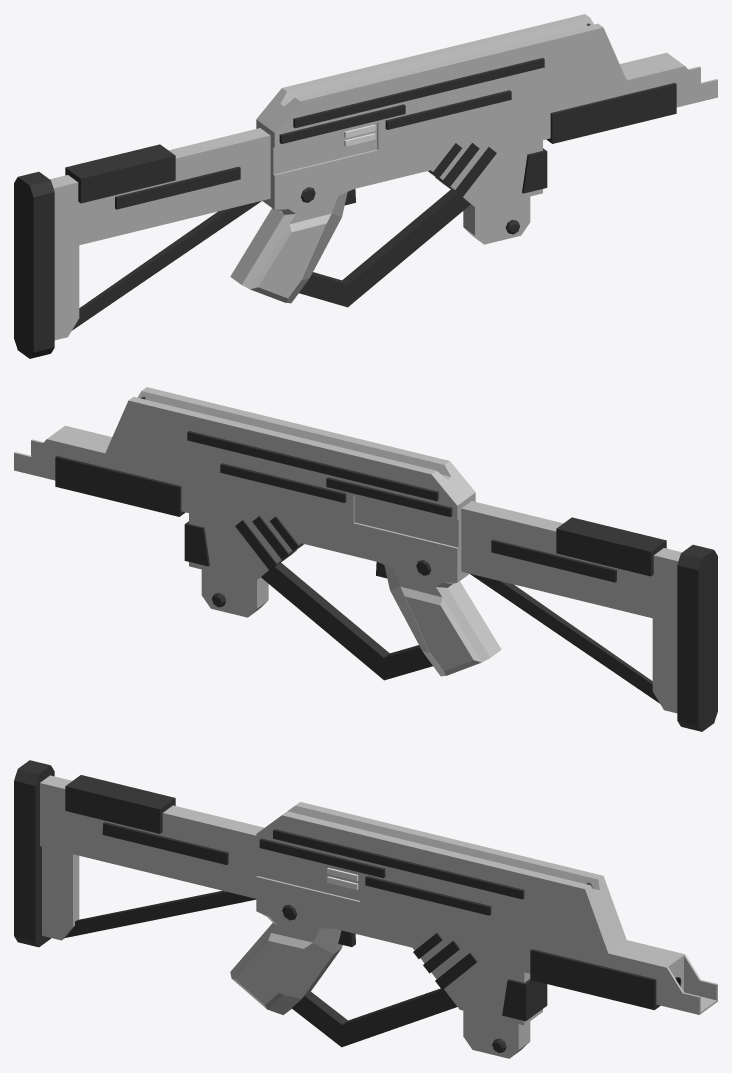
The model's file is Rifle_A_V4.FBX.
3 views of the same model, one above another, from view 1: azimuth 30°, elevation 25°; view 2: azimuth 150°, elevation 25°; view 3: azimuth 330°, elevation 25° (orthographic).
Visible parts, largest first — view 1: Rifle_A_V4, Magazine; view 2: Rifle_A_V4, Magazine; view 3: Rifle_A_V4, Magazine.
Part boxes in pixels (bbox=[...]): Rifle_A_V4: bbox=[14, 14, 717, 358]; Magazine: bbox=[463, 196, 530, 244]; Rifle_A_V4: bbox=[14, 387, 717, 731]; Magazine: bbox=[201, 569, 268, 617]; Rifle_A_V4: bbox=[14, 760, 717, 1047]; Magazine: bbox=[463, 1010, 530, 1058].
Bounding box in the file's own units: 396 × 123 × 23.39.
